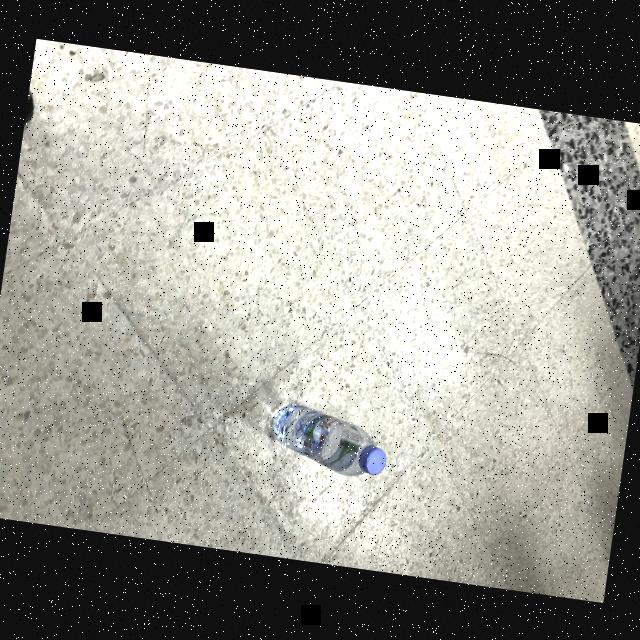plastic_bottle: (261, 394, 394, 480)
plastic_bottle_cap: (358, 440, 389, 476)
